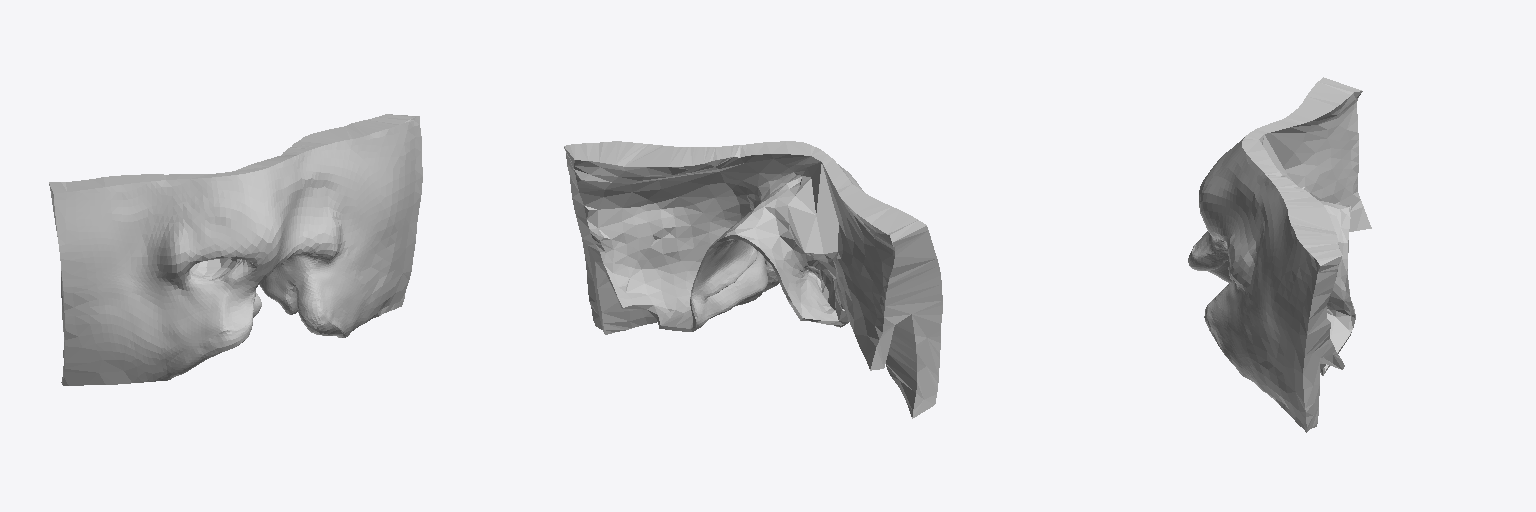
File: cleft_flap.obj
The picture shows the model from 3 angles: view 1: azimuth 30°, elevation 25°; view 2: azimuth 150°, elevation 25°; view 3: azimuth 270°, elevation 25°; orthographic projection.
Bounding box in the file's own units: 4.23 × 2.27 × 1.83.